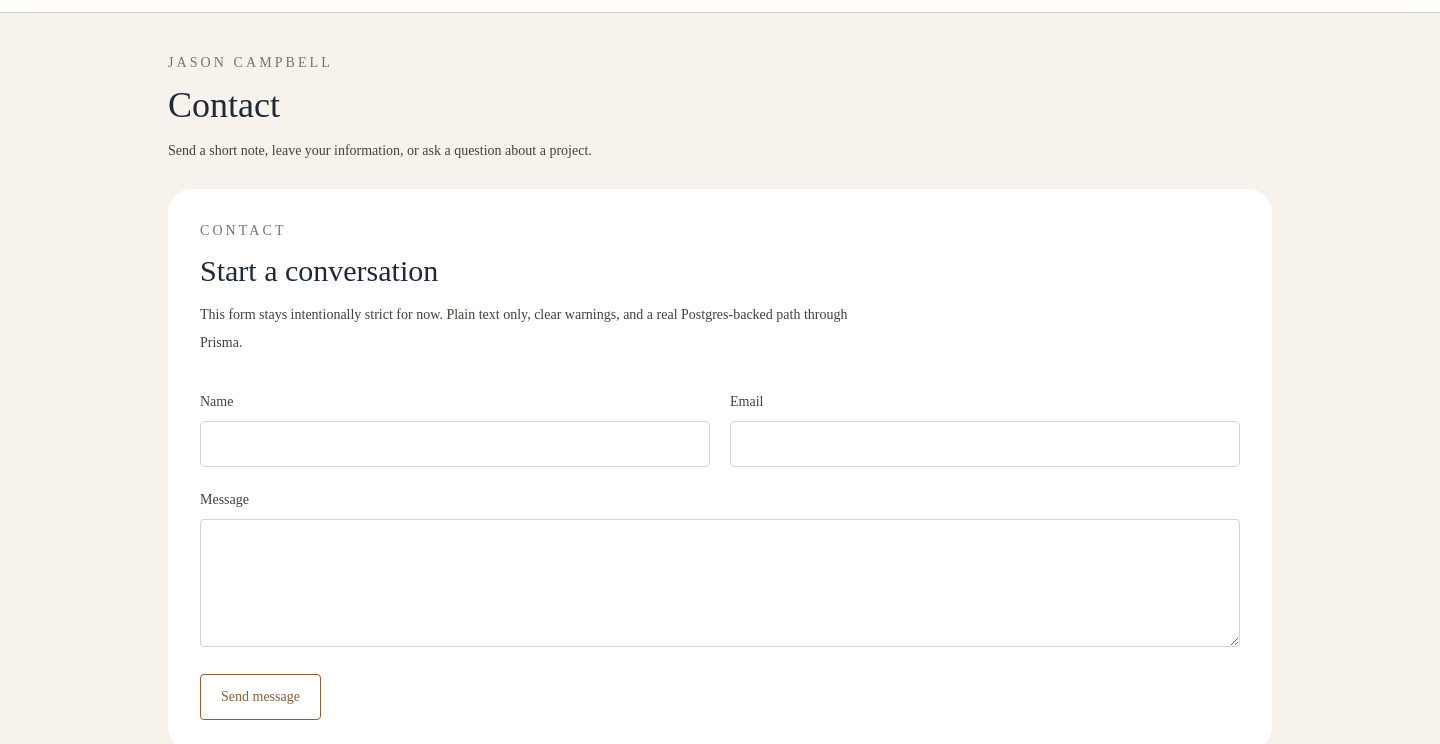
Test: submits the contact form successfully
The width and height of the screenshot is (1440, 744).
Type "Jason Campbell" into the field labelled "Name".
click(455, 444); type("Jason Campbell")  # box x1=200 y1=421 x2=710 y2=467
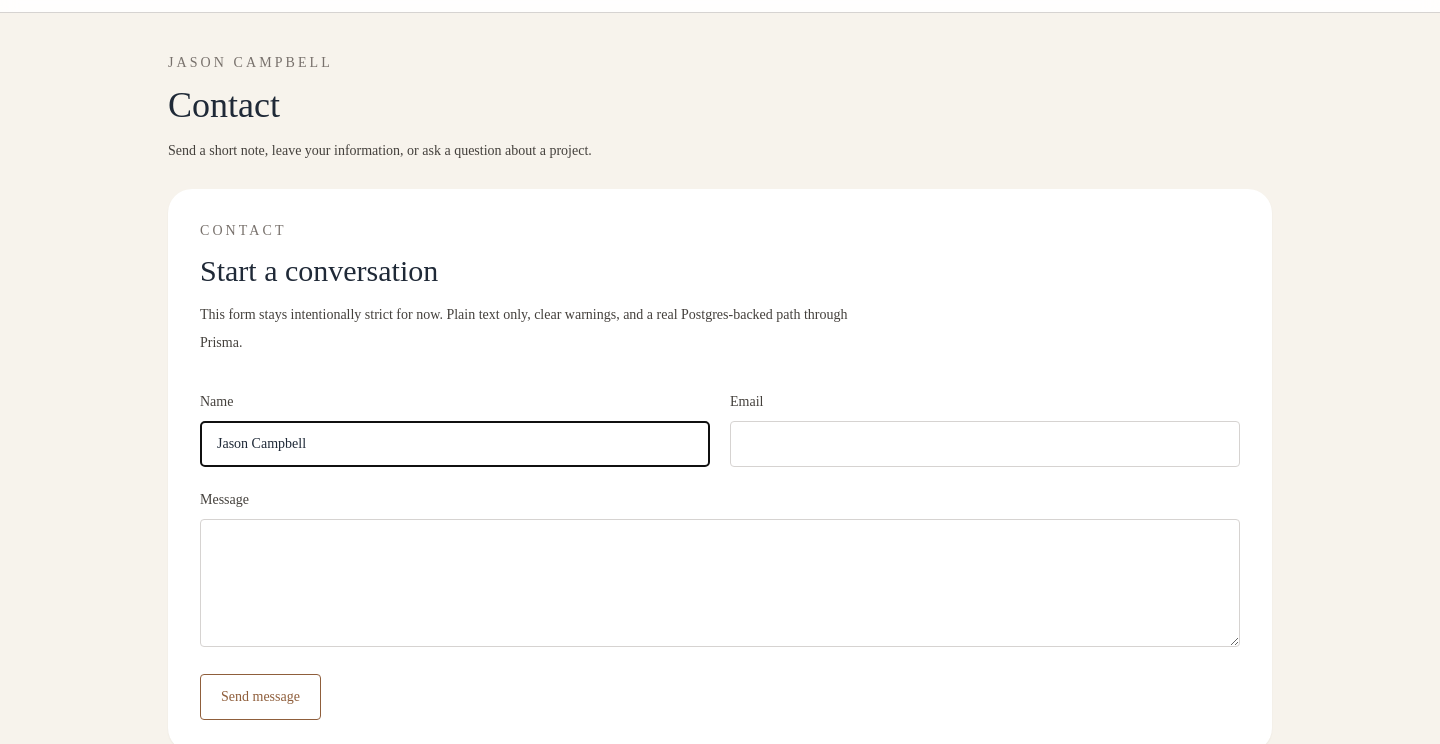
Type "jason@campbell.dev" into the field labelled "Email".
click(985, 444); type("jason@campbell.dev")  # box x1=730 y1=421 x2=1240 y2=467
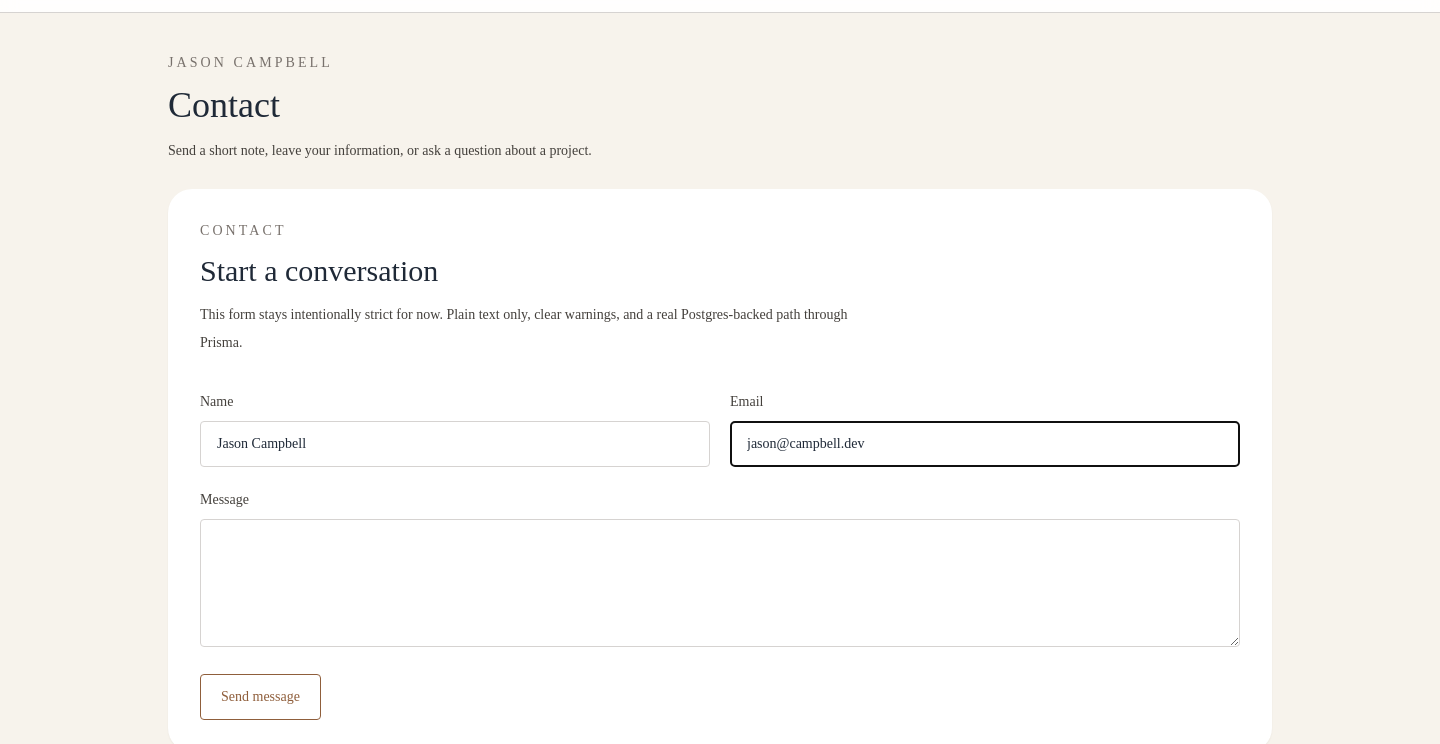
Type "Portfolio update request" into the text box labelled "Message".
click(720, 583); type("Portfolio update request")  # box x1=200 y1=519 x2=1240 y2=647
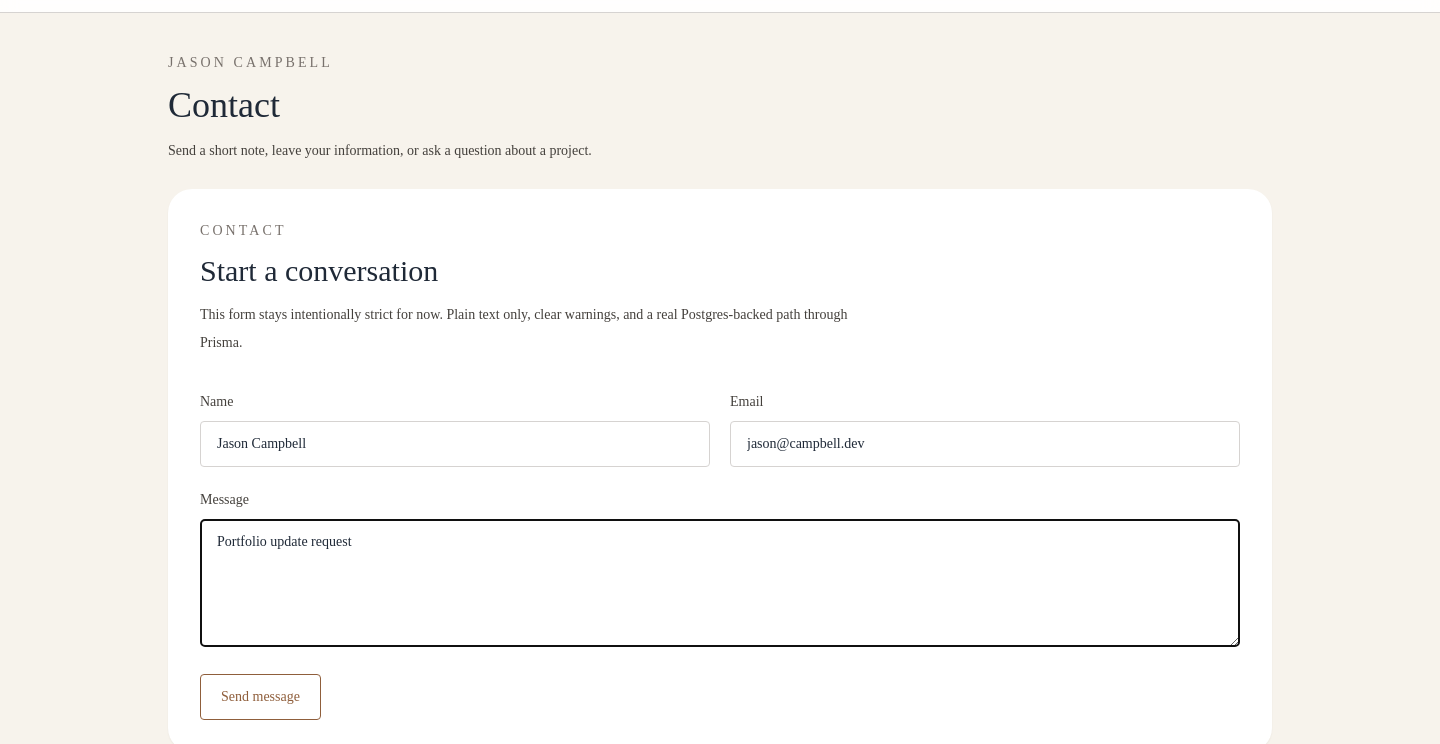
Click the button "Send message".
click(260, 697)  # box x1=200 y1=674 x2=321 y2=720
(page scrolled)
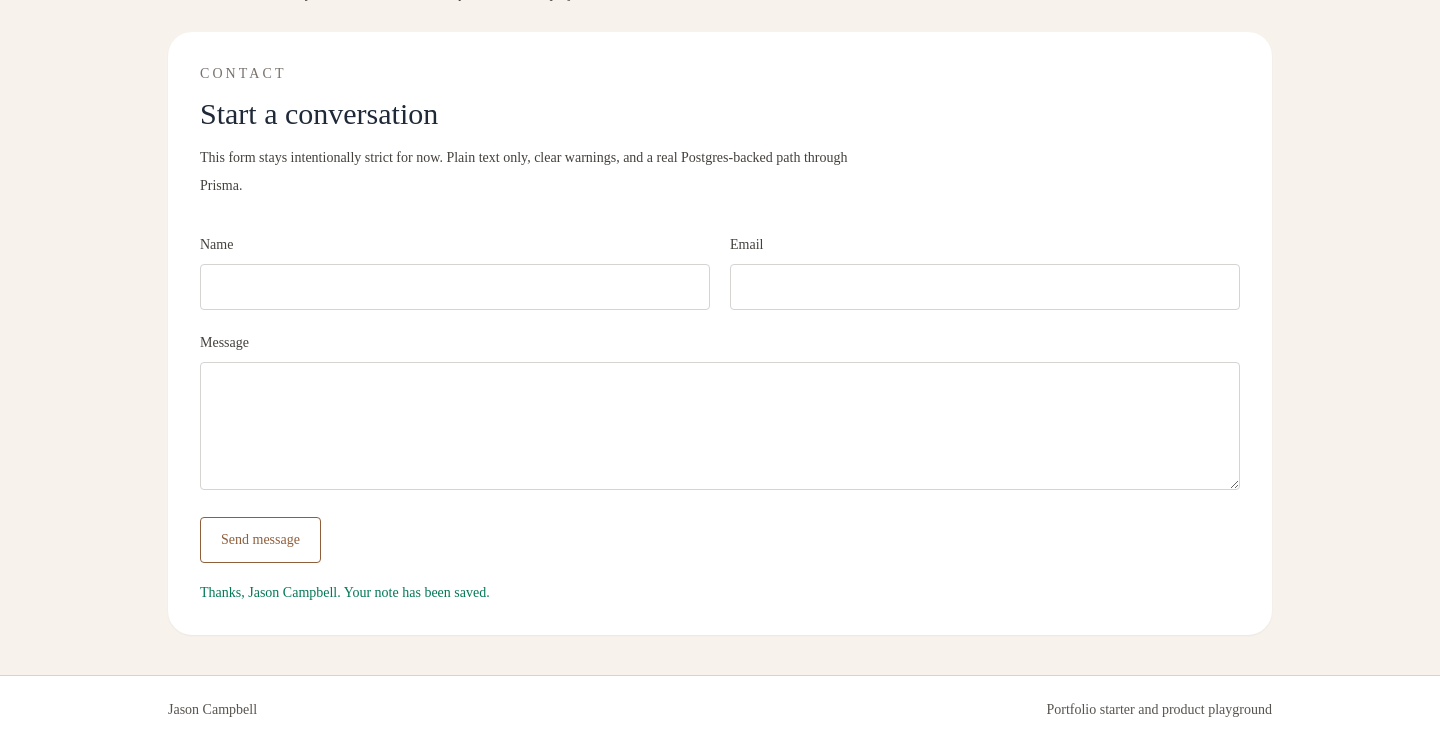
Expected: the text "Thanks, Jason Campbell. Your note has been saved." is shown, x1=200 y1=585 x2=490 y2=600
